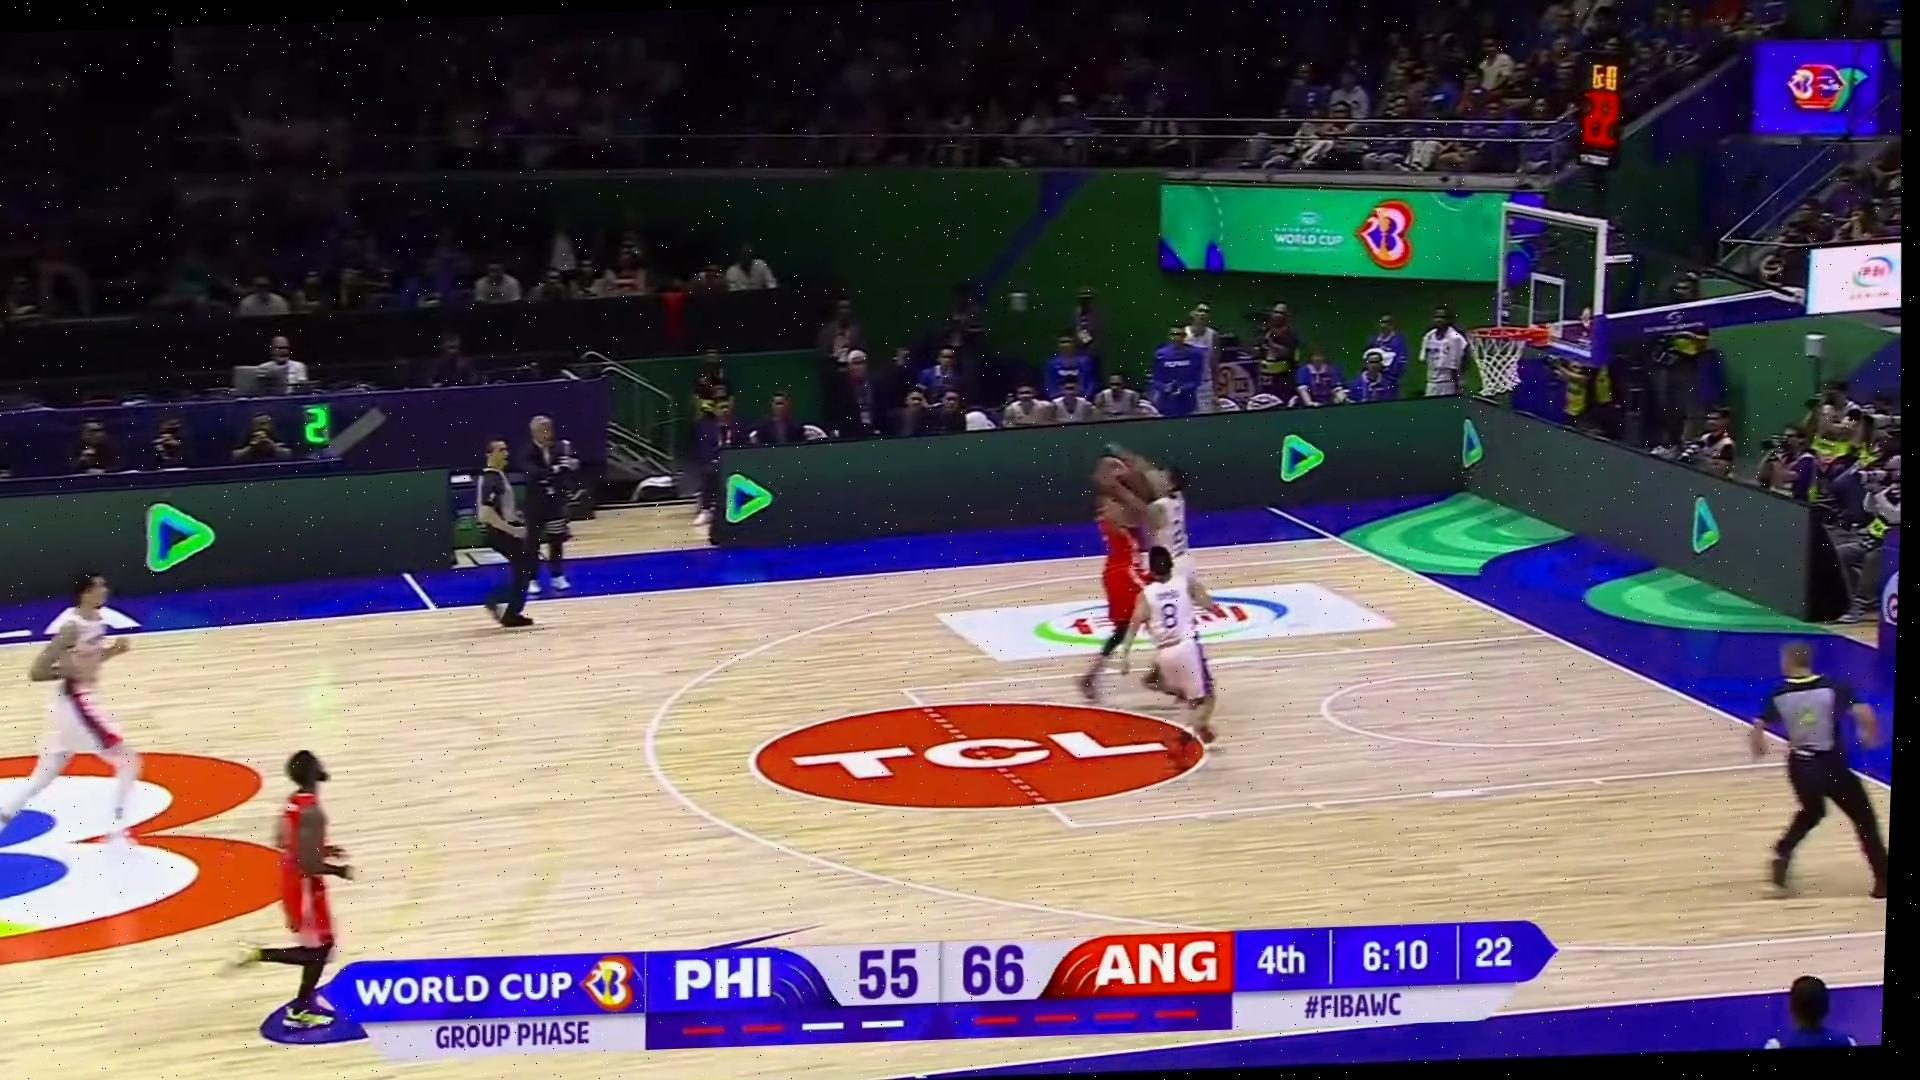foul: (1064, 421, 1239, 732)
